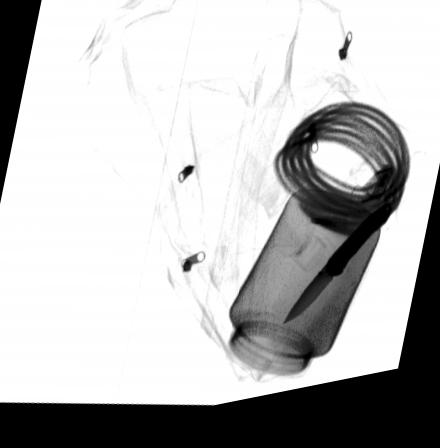Knife: (280, 216, 394, 338)
